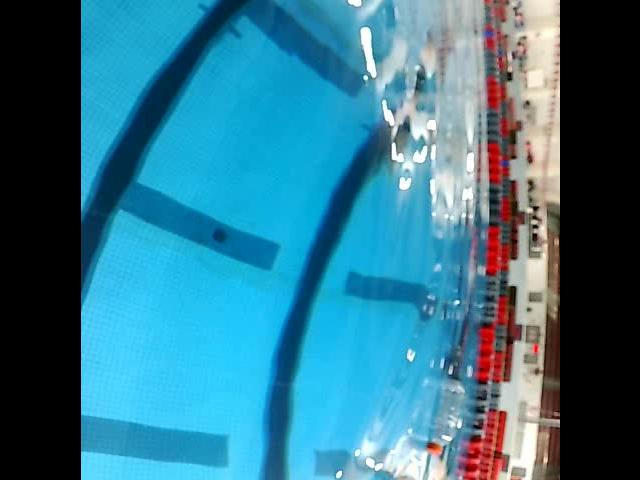Bottle: (418, 372, 468, 467)
